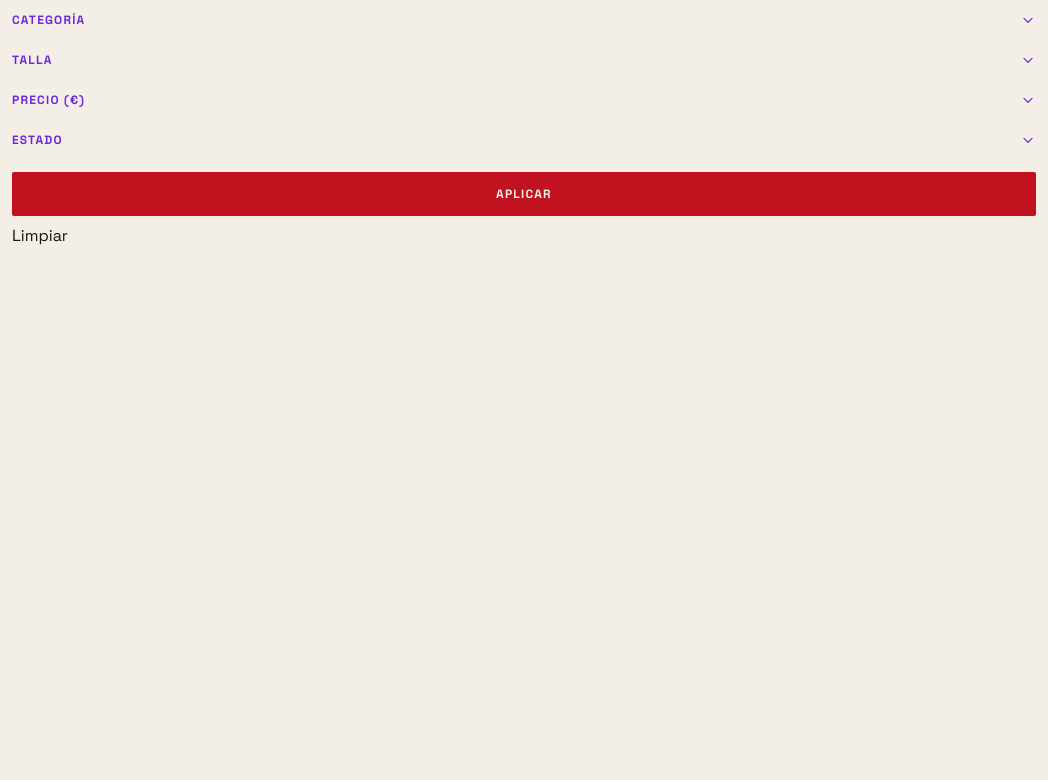
Test case: FilterForm accordion › toggles a group independently, keeping others open
The image size is (1048, 780).
Click the button "Categoría" at [49, 20], box x1=12 y1=12 x2=1036 y2=28
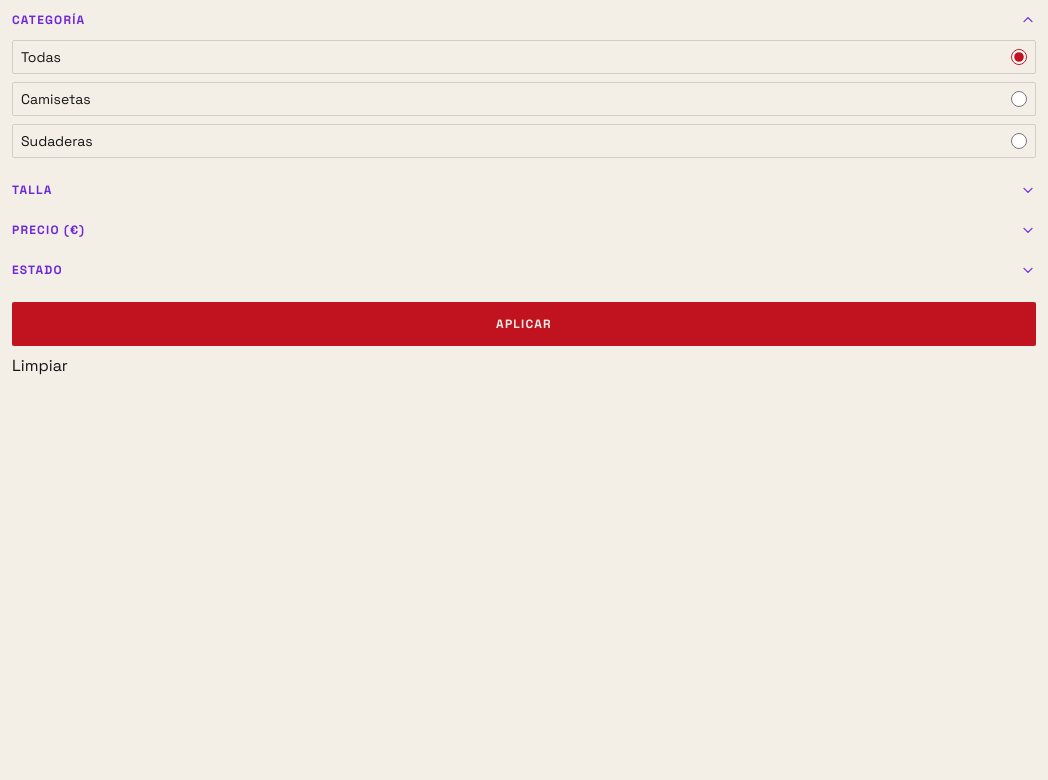
Now the button "Categoría" is expanded
Click the button "Categoría" at [49, 20], box x1=12 y1=12 x2=1036 y2=28
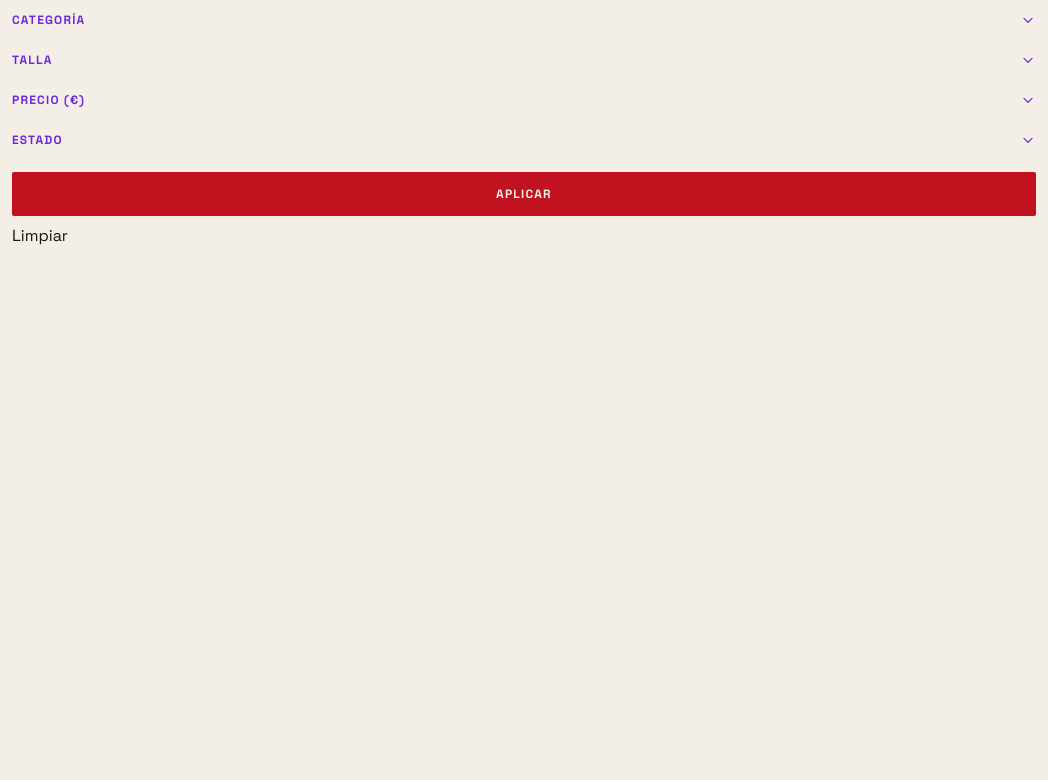
Now the button "Categoría" is collapsed
Click the button "Categoría" at [49, 20], box x1=12 y1=12 x2=1036 y2=28
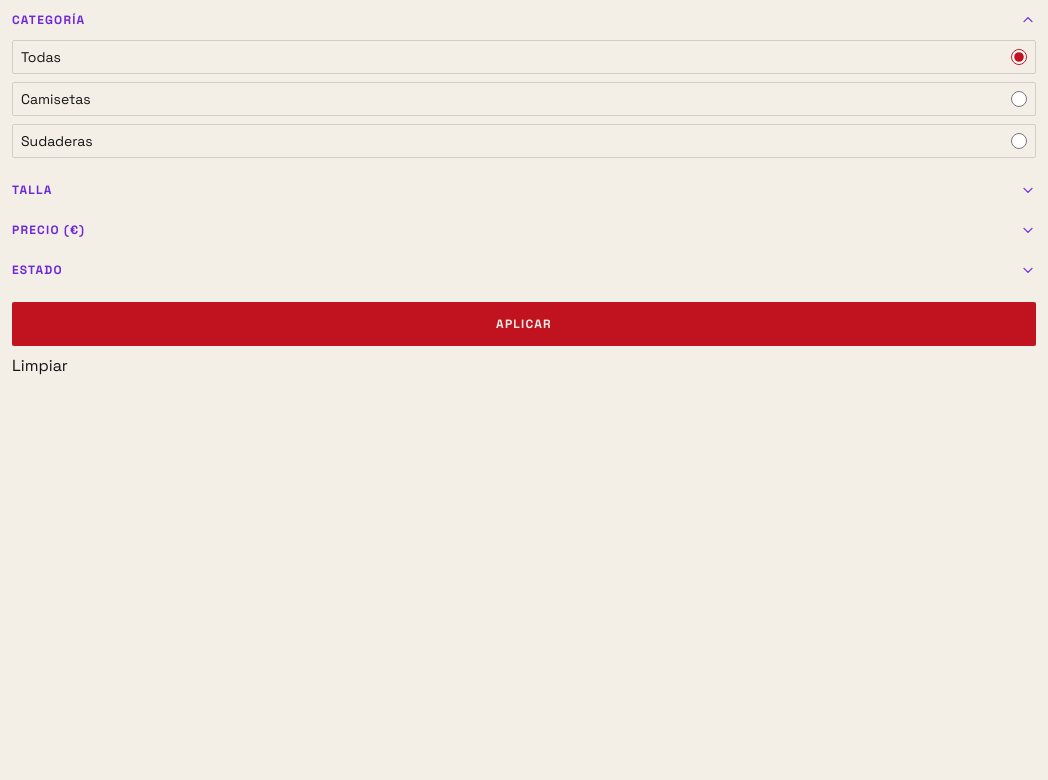
Click the button "Talla" at [32, 190], box x1=12 y1=182 x2=1036 y2=198
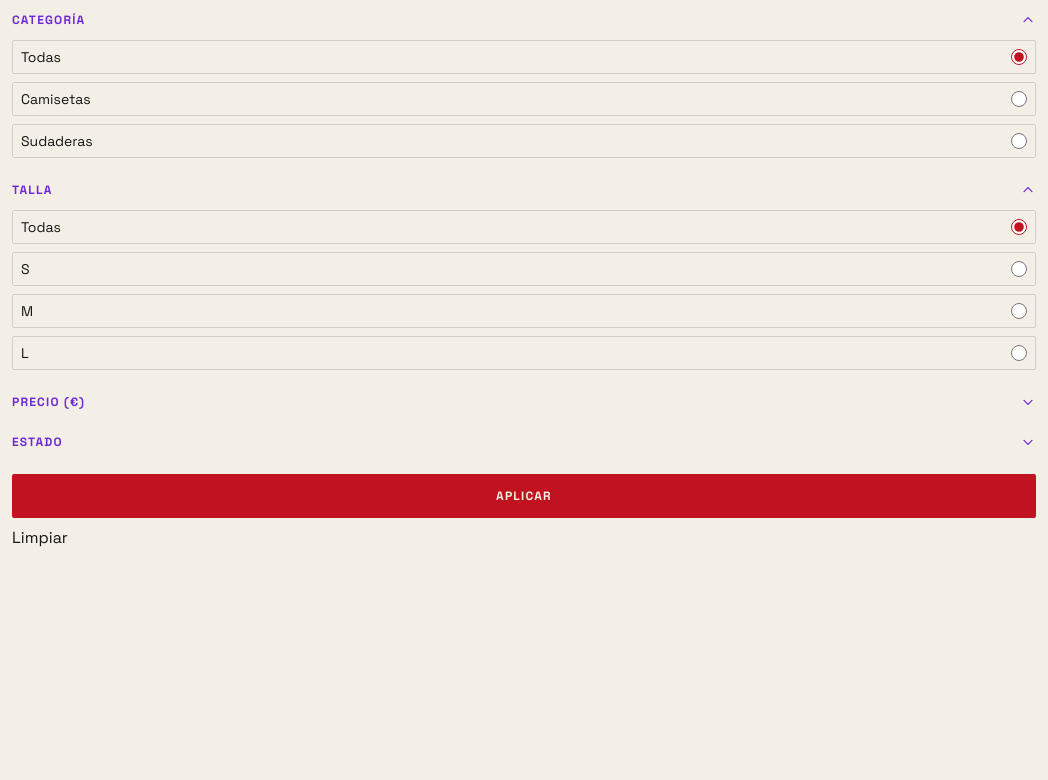
Now the button "Categoría" is expanded, box x1=12 y1=12 x2=1036 y2=28
Now the button "Talla" is expanded, box x1=12 y1=182 x2=1036 y2=198
